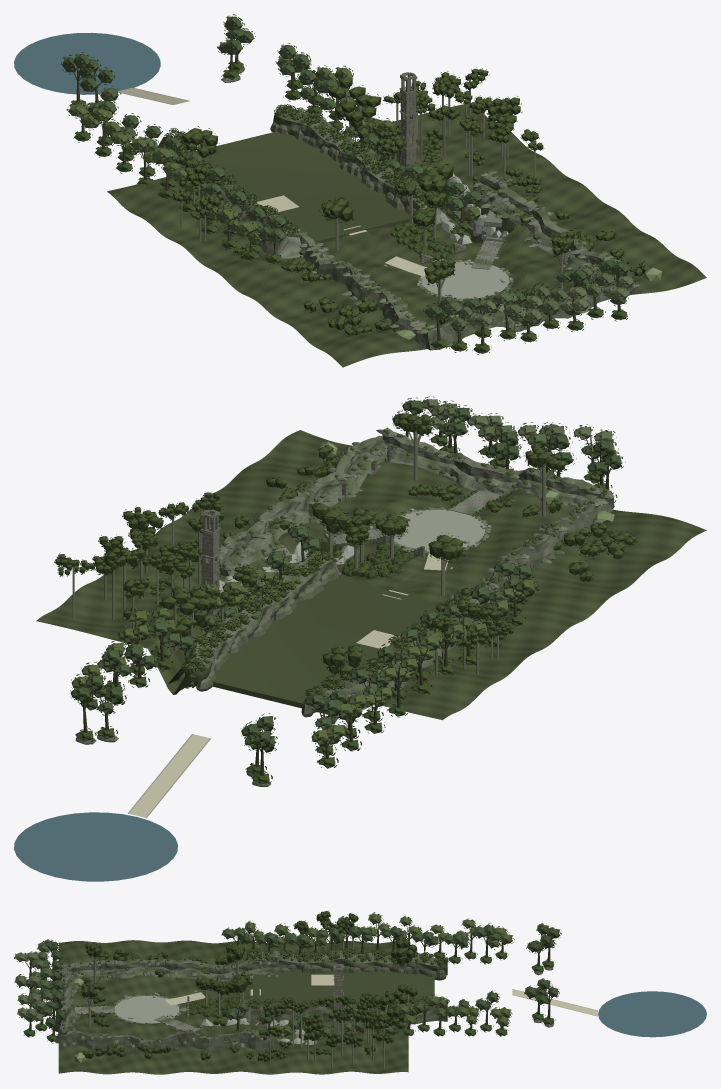
The model's file is resident.glb.
3 renders of one model, top to bottom at view 1: azimuth 30°, elevation 25°; view 2: azimuth 150°, elevation 25°; view 3: azimuth 270°, elevation 25°, orthographic. The views are drawn at different scales.
Parts seen in each view (by area): view 1: Terrain_bank_colours_Cell_-1_-4, Pool_study, Terrain_bank_colours_Cell_-1_-3, HubBoundary_Foliage_Cell_0_1, HubBoundary_Foliage_Cell_-1_1, Terrain_bank_colours_Cell_-1_-2, WoodlandBackdrop_3_Cell_1_-4, HubBoundary_Foliage_Cell_0_-5, HubBoundary_Foliage_Cell_-2_-3, HubBoundary_Foliage_Cell_-2_-5, Terrain_bank_colours_Cell_-3_-4, HubBoundary_Stone_Cell_1_-2 (+64 smaller); view 2: Pool_study, Terrain_bank_colours_Cell_-1_-4, Terrain_bank_colours_Cell_-1_-3, HubBoundary_Foliage_Cell_0_-5, HubBoundary_Foliage_Cell_0_1, HubBoundary_Foliage_Cell_-1_1, WoodlandBackdrop_3_Cell_1_-4, HubBoundary_Foliage_Cell_-2_-5, Limestone, HubBoundary_Stone_Cell_0_1, Terrain_bank_colours_Cell_-1_0, Terrain_bank_colours_Cell_0_0 (+56 smaller); view 3: Pool_study, Terrain_bank_colours_Cell_-1_-3, HubBoundary_Foliage_Cell_-2_-3, HubBoundary_Foliage_Cell_-2_-4, Terrain_bank_colours_Cell_-1_-4, Terrain_bank_colours_Cell_1_-4, HubBoundary_Foliage_Cell_-2_-5, WoodlandBackdrop_3_Cell_1_-4, HubBoundary_Foliage_Cell_-1_1, HubBoundary_Foliage_Cell_-2_-6, HubBoundary_Stone_Cell_-2_0, HubBoundary_Stone_Cell_-2_-3 (+75 smaller).
Part boxes in pixels (x1=…): Terrain_bank_colours_Cell_-1_-4: x1=201, y1=131, x2=405, y2=212; Pool_study: x1=14, y1=32, x2=160, y2=94; Terrain_bank_colours_Cell_-1_-3: x1=209, y1=166, x2=409, y2=241; HubBoundary_Foliage_Cell_0_1: x1=523, y1=265, x2=622, y2=331; HubBoundary_Foliage_Cell_-1_1: x1=456, y1=288, x2=542, y2=354; Terrain_bank_colours_Cell_-1_-2: x1=315, y1=218, x2=411, y2=266; WoodlandBackdrop_3_Cell_1_-4: x1=388, y1=71, x2=476, y2=161; HubBoundary_Foliage_Cell_0_-5: x1=274, y1=67, x2=367, y2=138; HubBoundary_Foliage_Cell_-2_-3: x1=196, y1=168, x2=286, y2=248; HubBoundary_Foliage_Cell_-2_-5: x1=111, y1=115, x2=197, y2=184; Terrain_bank_colours_Cell_-3_-4: x1=115, y1=187, x2=192, y2=230; HubBoundary_Stone_Cell_1_-2: x1=478, y1=175, x2=538, y2=227; Pool_study: x1=14, y1=812, x2=177, y2=881; Terrain_bank_colours_Cell_-1_-4: x1=189, y1=584, x2=330, y2=703; Terrain_bank_colours_Cell_-1_-3: x1=326, y1=578, x2=443, y2=683; HubBoundary_Foliage_Cell_0_-5: x1=123, y1=608, x2=224, y2=688; HubBoundary_Foliage_Cell_0_1: x1=423, y1=402, x2=522, y2=494; HubBoundary_Foliage_Cell_-1_1: x1=496, y1=422, x2=611, y2=500; WoodlandBackdrop_3_Cell_1_-4: x1=94, y1=531, x2=201, y2=619; HubBoundary_Foliage_Cell_-2_-5: x1=305, y1=643, x2=408, y2=737; Limestone: x1=129, y1=551, x2=448, y2=817; HubBoundary_Stone_Cell_0_1: x1=408, y1=442, x2=502, y2=497; Terrain_bank_colours_Cell_-1_0: x1=475, y1=497, x2=563, y2=545; Terrain_bank_colours_Cell_0_0: x1=357, y1=471, x2=467, y2=516; Pool_study: x1=598, y1=991, x2=706, y2=1037; Terrain_bank_colours_Cell_-1_-3: x1=253, y1=970, x2=413, y2=1003; HubBoundary_Foliage_Cell_-2_-3: x1=270, y1=927, x2=334, y2=975; HubBoundary_Foliage_Cell_-2_-4: x1=332, y1=916, x2=396, y2=970; Terrain_bank_colours_Cell_-1_-4: x1=301, y1=974, x2=434, y2=1005; Terrain_bank_colours_Cell_1_-4: x1=334, y1=1032, x2=396, y2=1063; HubBoundary_Foliage_Cell_-2_-5: x1=395, y1=920, x2=458, y2=969; WoodlandBackdrop_3_Cell_1_-4: x1=333, y1=992, x2=385, y2=1054; HubBoundary_Foliage_Cell_-1_1: x1=20, y1=949, x2=83, y2=1006; HubBoundary_Foliage_Cell_-2_-6: x1=457, y1=920, x2=514, y2=964; HubBoundary_Stone_Cell_-2_0: x1=84, y1=958, x2=146, y2=980; HubBoundary_Stone_Cell_-2_-3: x1=271, y1=951, x2=334, y2=977.
Size of what is drawn, in the model's own units: 120 by 42.09 by 267.
